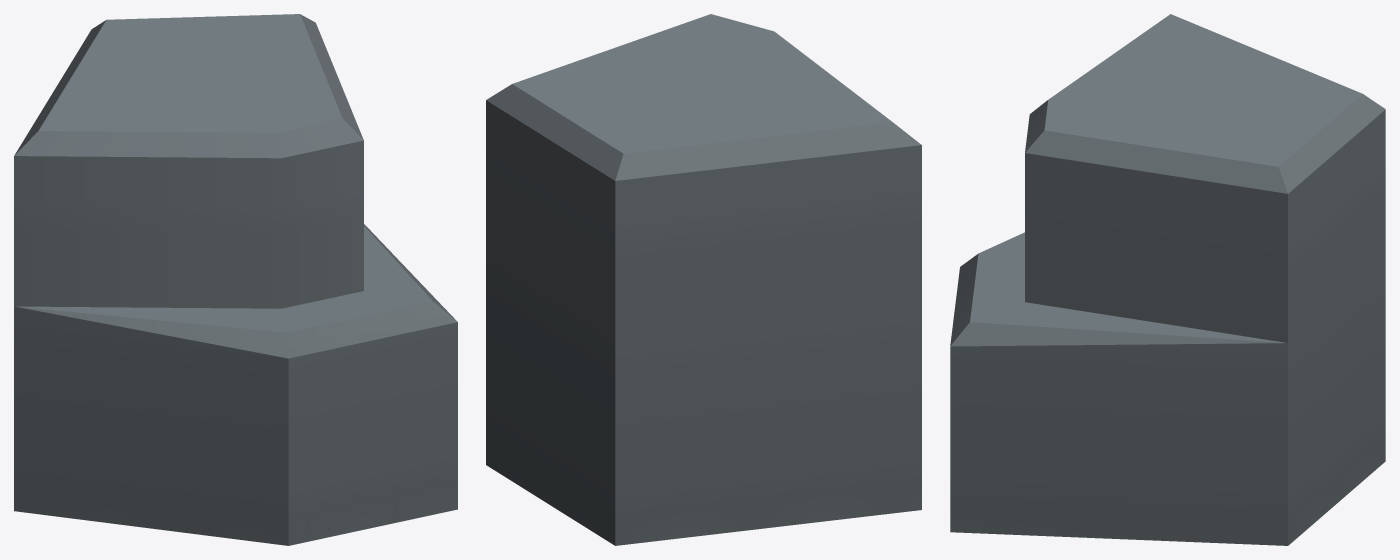
Rendered from forest-nature-rock-1-b-color1.gltf.
3 views of the same model, side by side, from view 1: azimuth 30°, elevation 25°; view 2: azimuth 150°, elevation 25°; view 3: azimuth 270°, elevation 25° (orthographic). The views are drawn at different scales.
Visible parts, largest first — view 1: Rock_1_B_Color1; view 2: Rock_1_B_Color1; view 3: Rock_1_B_Color1.
Part boxes in pixels (x1=…): Rock_1_B_Color1: x1=14, y1=14, x2=457, y2=545; Rock_1_B_Color1: x1=486, y1=14, x2=921, y2=545; Rock_1_B_Color1: x1=950, y1=14, x2=1385, y2=545.
Size of the model in its own units: 0.5511 by 0.5403 by 0.5778.
Materials: 1 (1 with a texture image).
